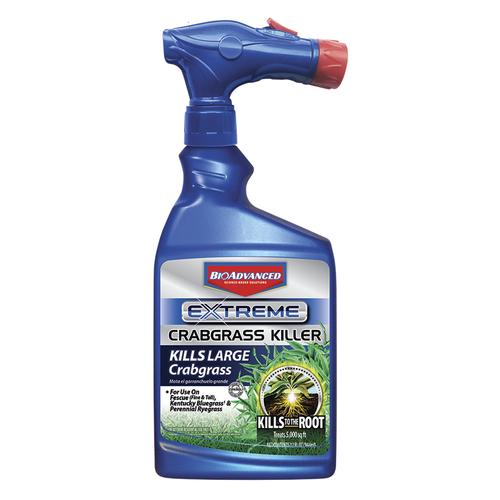crabgrass: (238, 335, 335, 376), (267, 369, 318, 397)
